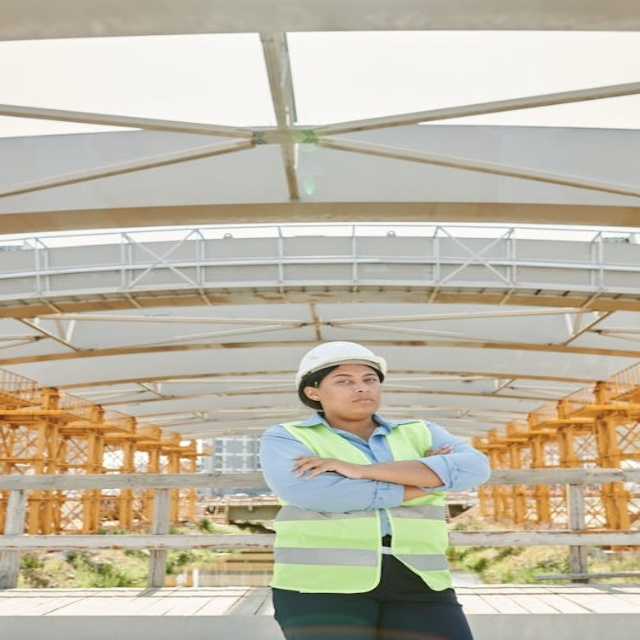Sin_gafas: (319, 376, 384, 388)
Sin_guantes: (284, 453, 366, 483), (425, 443, 455, 457)
Sin_mascara: (339, 396, 379, 412)
